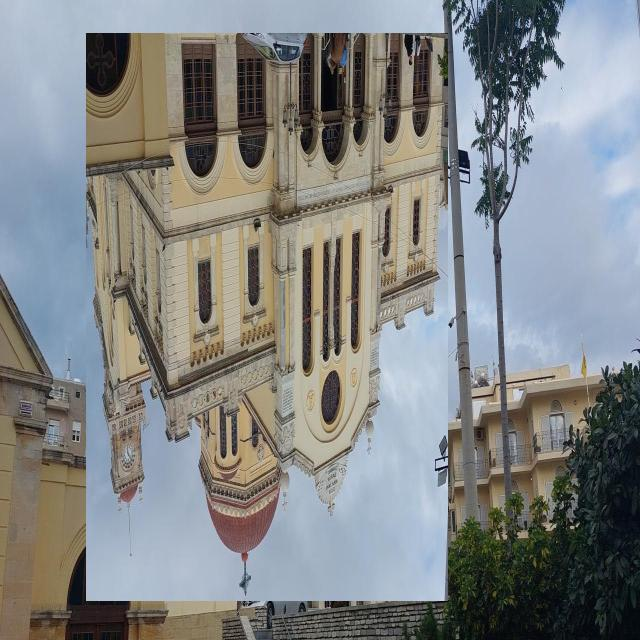Agios Minas: (87, 34, 449, 602)
